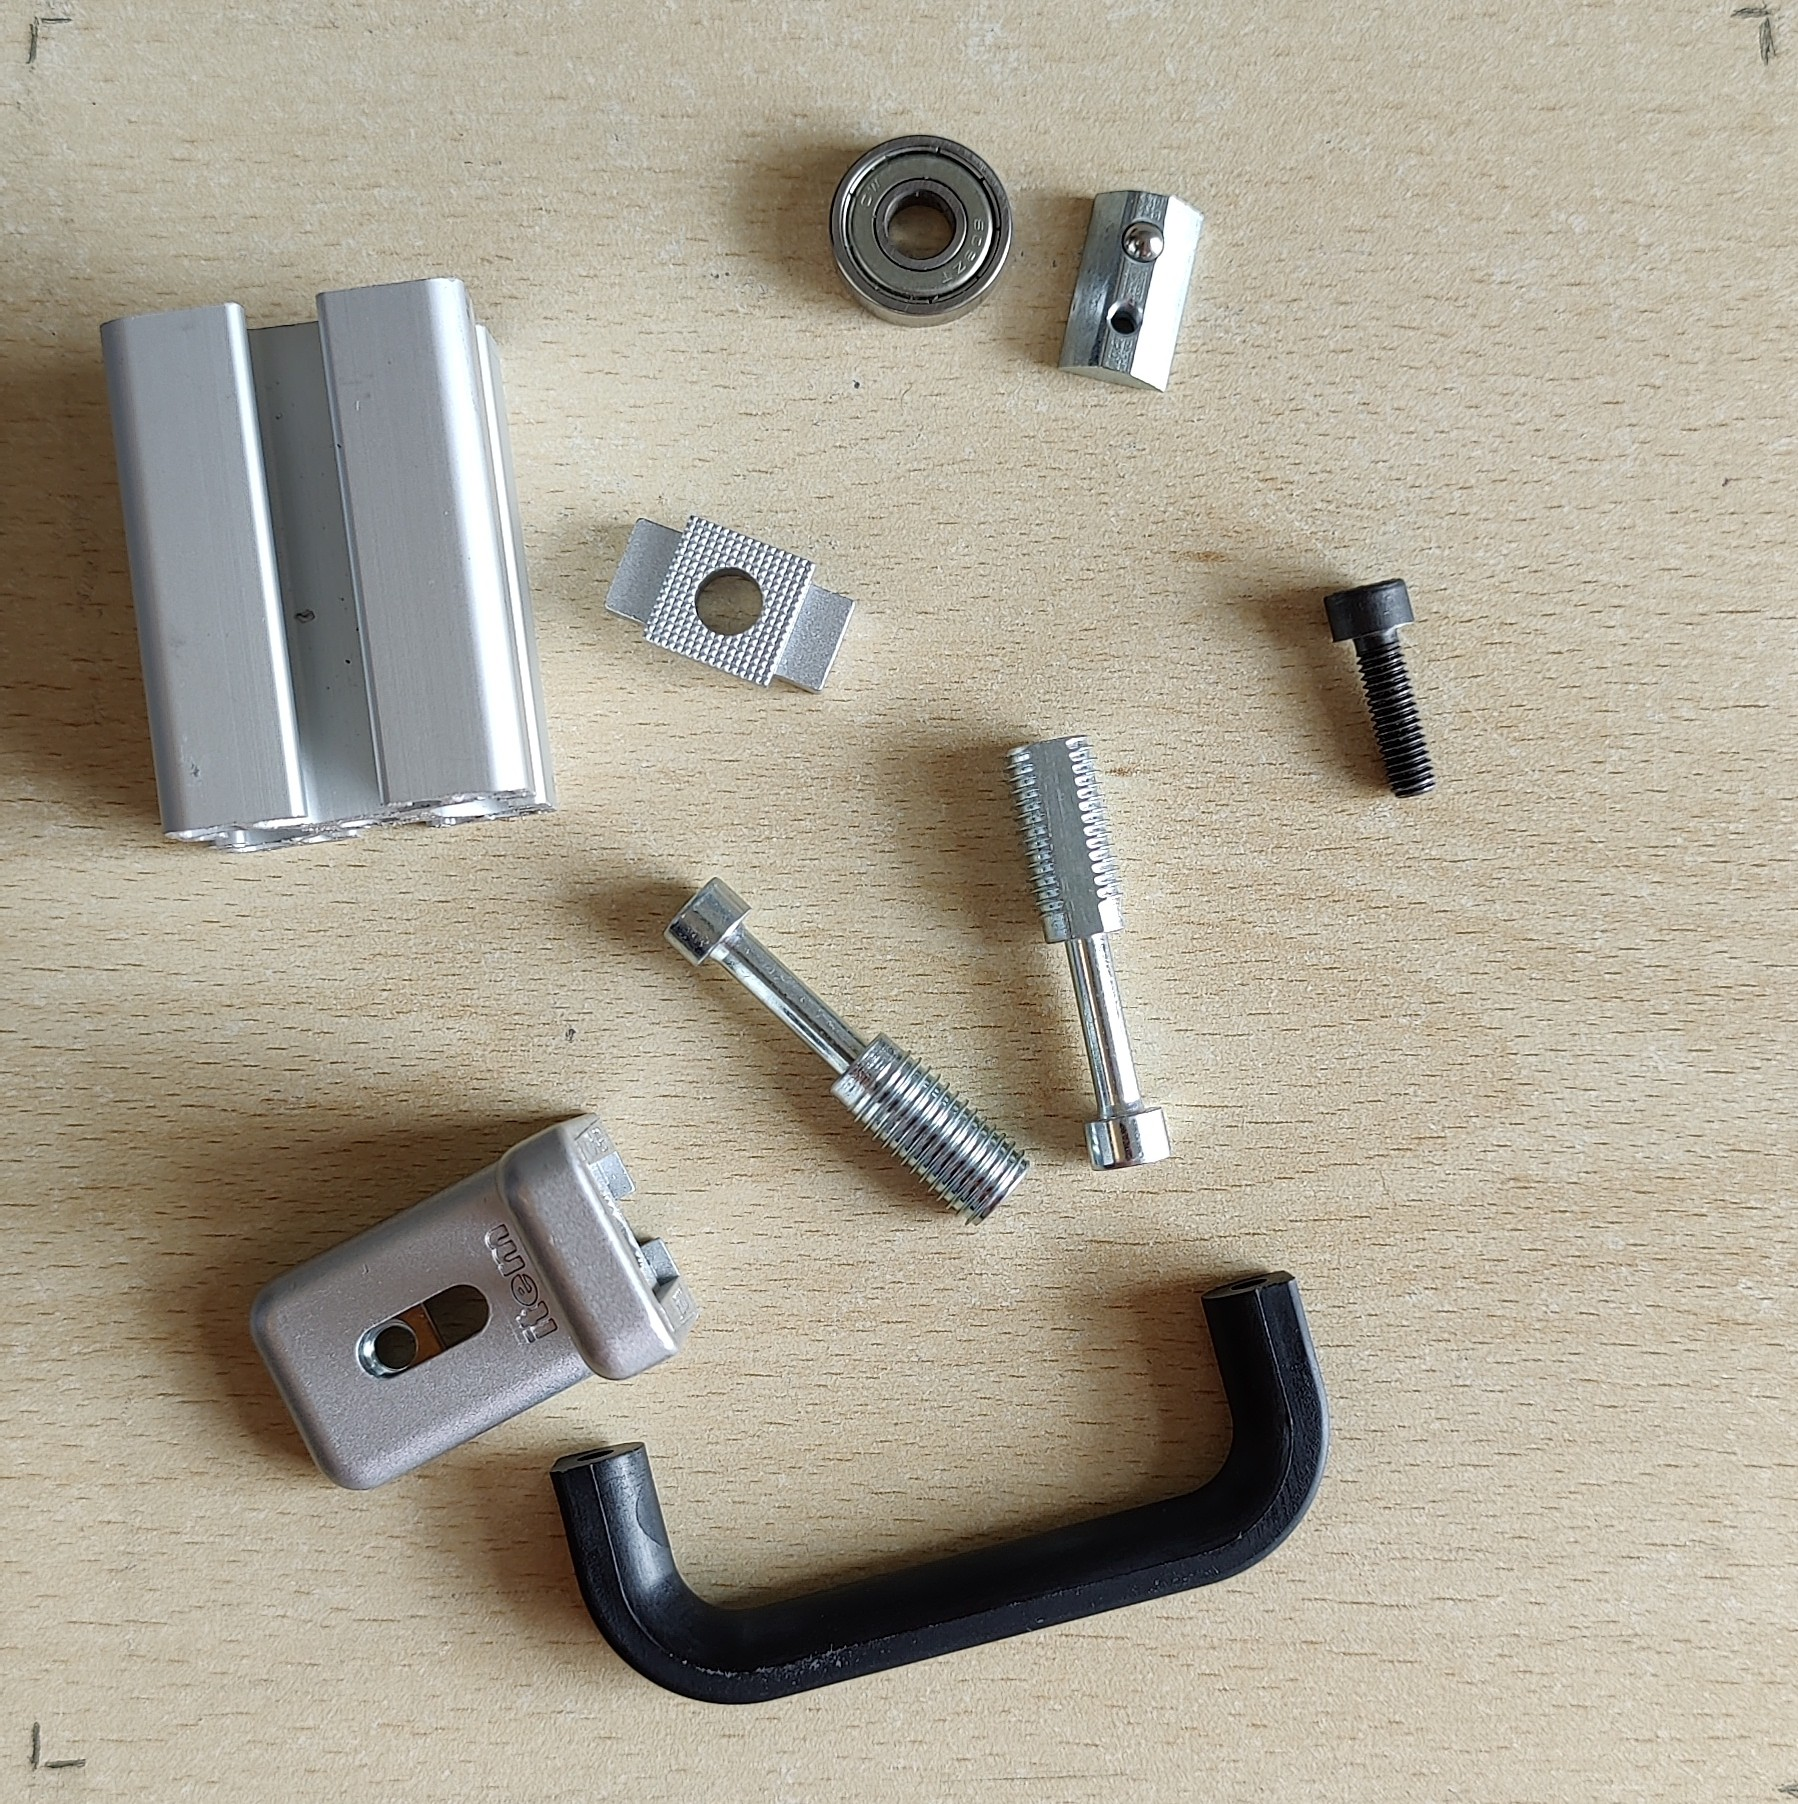Aluminium Extension: (92, 273, 565, 859)
Ball Bearing: (828, 130, 1014, 329)
Multiwinkel: (249, 1111, 695, 1493)
Pull Handle: (547, 1267, 1335, 1709)
Shoulder Socket Head Cap Screw: (662, 877, 1036, 1230), (999, 732, 1176, 1170)
Socket Head Cap Screw: (1319, 574, 1439, 803)
T Nut Square: (599, 510, 861, 695)
T Spring Nut: (1052, 186, 1205, 397)
